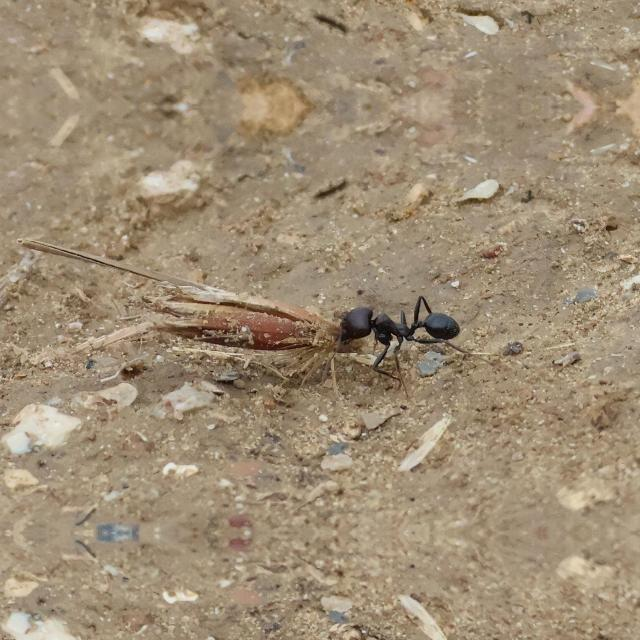Messor: (328, 293, 469, 365)
